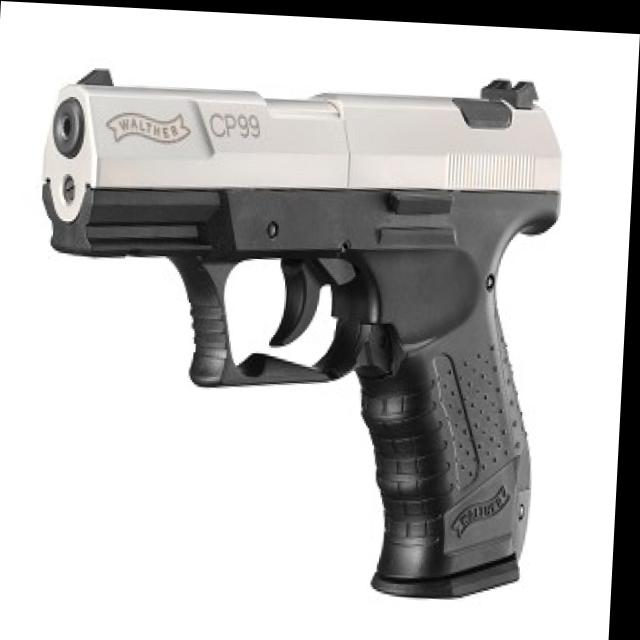handgun: (24, 51, 568, 599)
